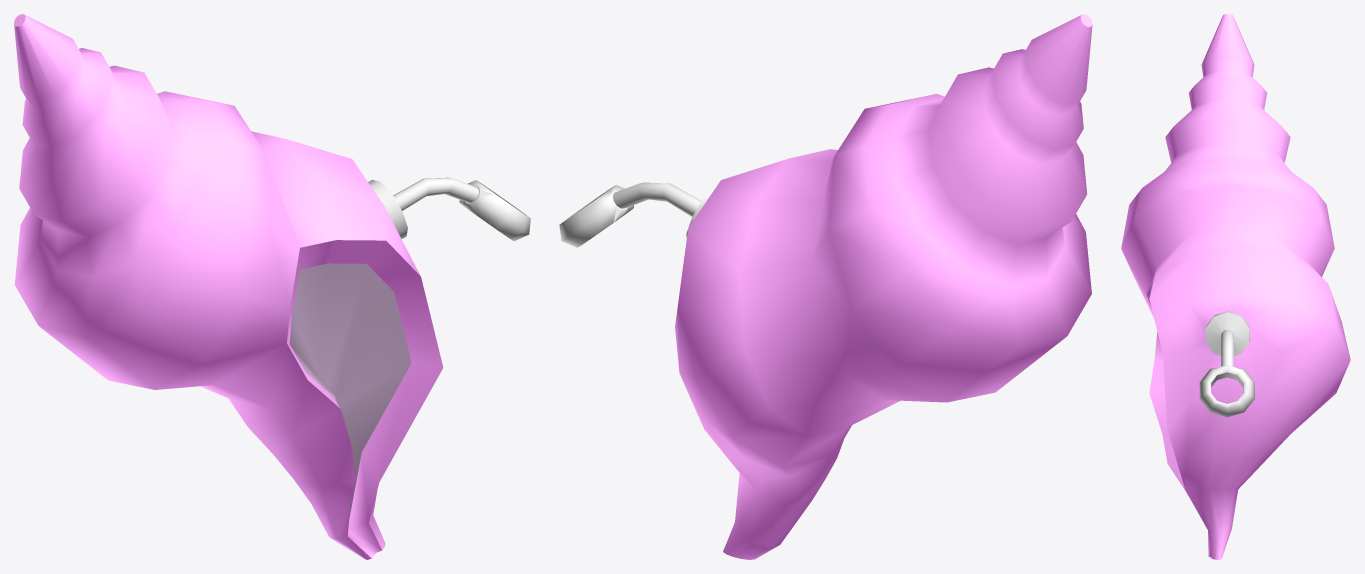
File: conch.fbx
3 views of the same model, side by side, from view 1: azimuth 30°, elevation 25°; view 2: azimuth 150°, elevation 25°; view 3: azimuth 270°, elevation 25° (orthographic). The views are drawn at different scales.
Visible parts, largest first — view 1: conch1; view 2: conch1; view 3: conch1.
Part boxes in pixels (x1,y1,x2,y2): conch1: (14, 14, 530, 559); conch1: (559, 14, 1092, 559); conch1: (1121, 14, 1350, 559).
Bounding box in the file's own units: 13.42 × 15.51 × 7.51.
